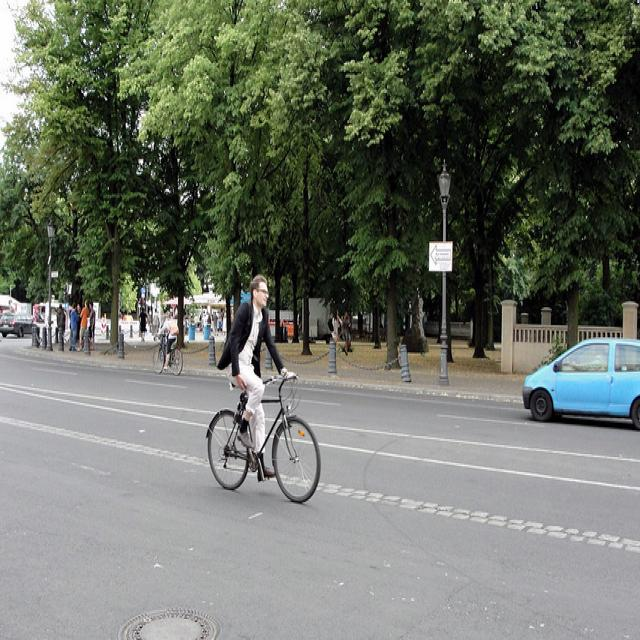Vehicle: (521, 336, 640, 431), (1, 303, 33, 337)
